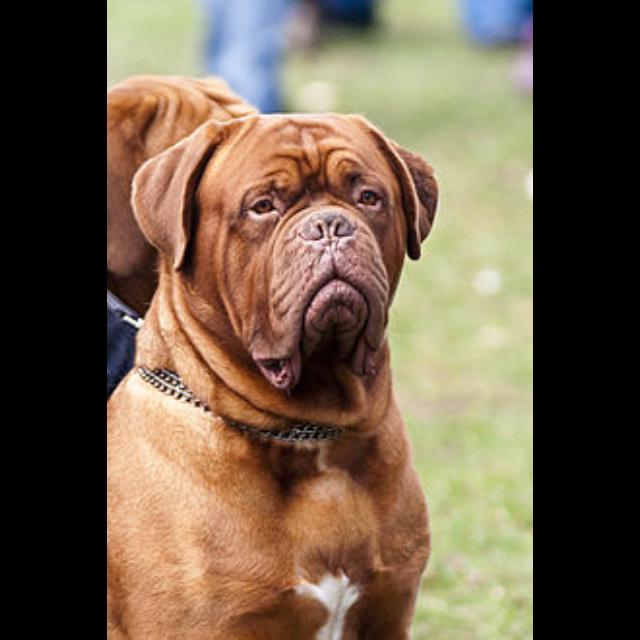dogue_de_bordeaux: (109, 118, 440, 639), (111, 75, 264, 421)
